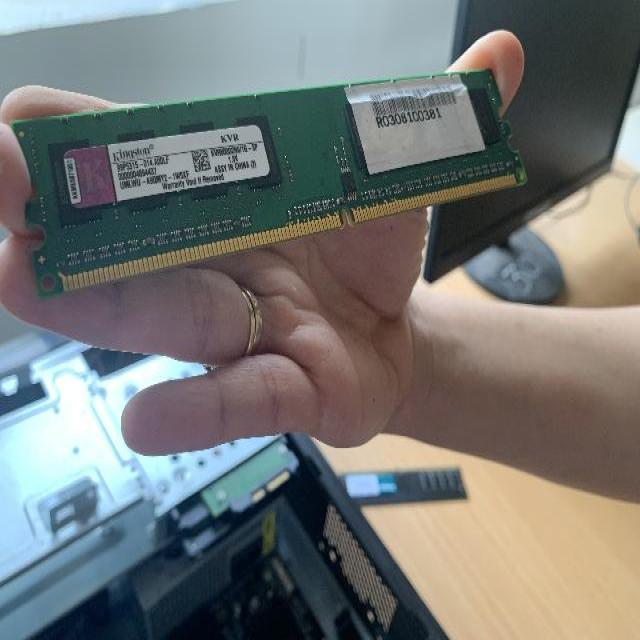RAM: (3, 66, 540, 302)
